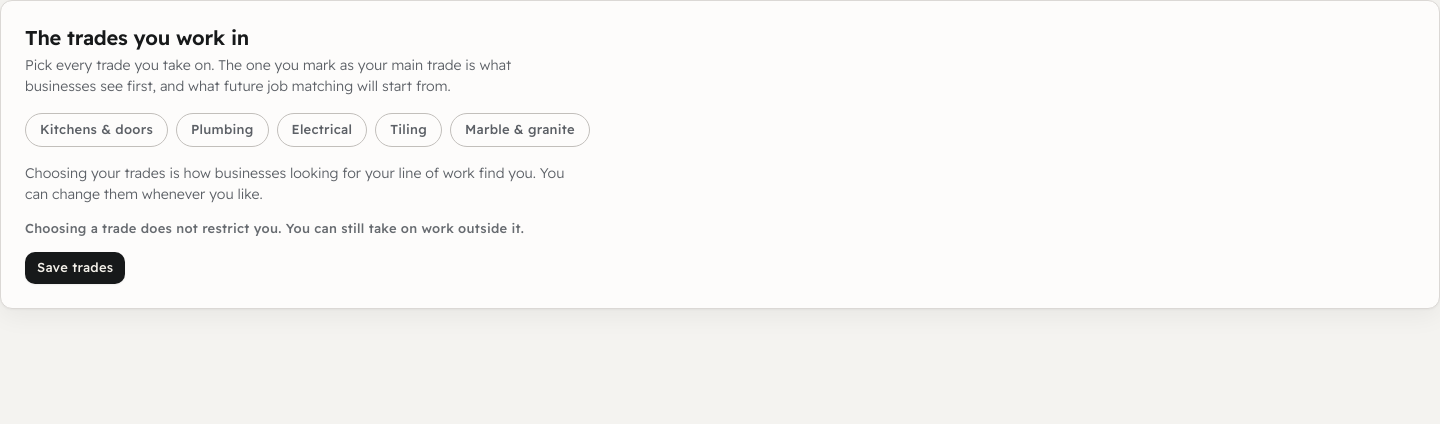
Test case: TradeSelector — detailed specialties live under a selected trade › is hidden for a trade that is not selected, and appears when the trade is chosen
Click the button "Tiling" at (409, 130), box [375, 113, 442, 147]
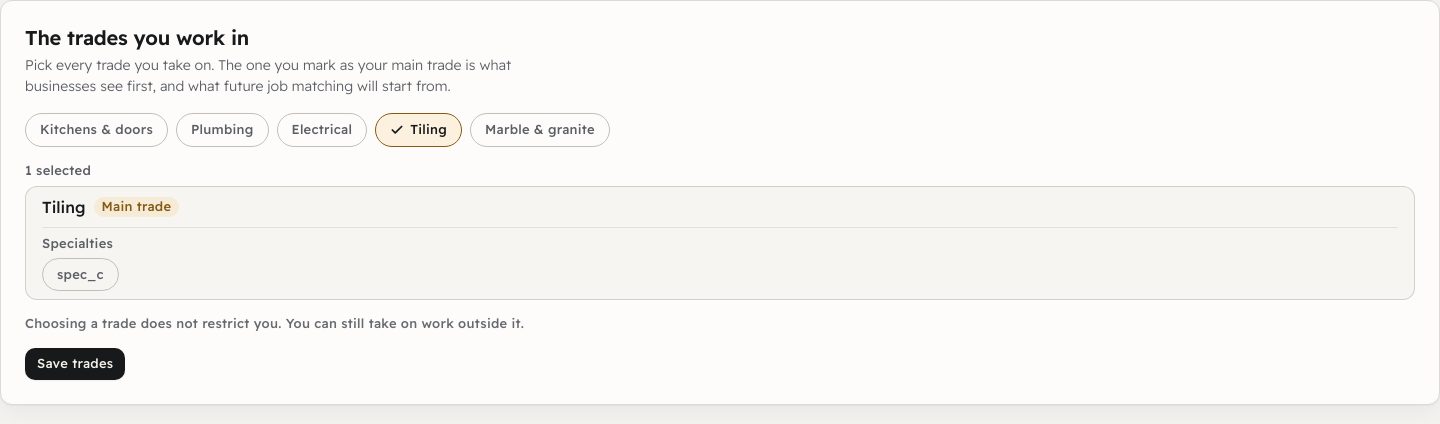
Result: the element with test id "specialties-tiling" is shown at [42, 227, 1398, 291]
